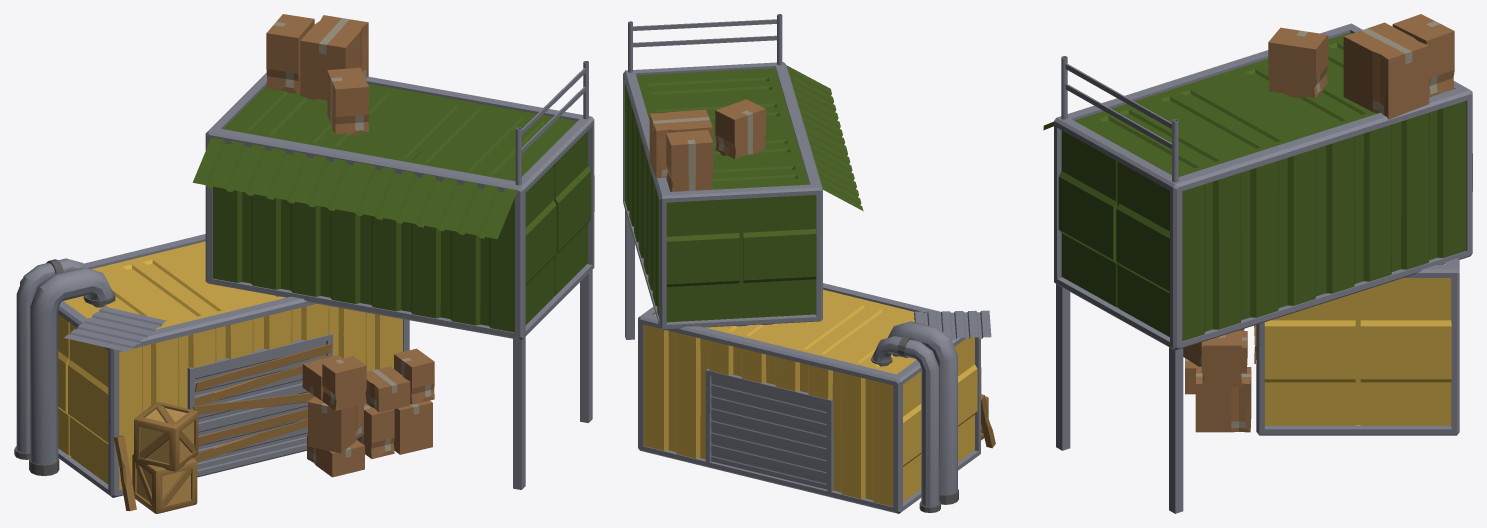
File: barracks.glb
3 views of the same model, side by side, from view 1: azimuth 30°, elevation 25°; view 2: azimuth 150°, elevation 25°; view 3: azimuth 270°, elevation 25° (orthographic). The views are drawn at different scales.
Parts seen in each view (by area): view 1: Structure_2; view 2: Structure_2; view 3: Structure_2.
Boxes of the visible parts, x1,y1,x2,y2 form: Structure_2: (14, 14, 594, 513); Structure_2: (623, 14, 995, 513); Structure_2: (1043, 14, 1472, 513).
Size of the model in its own units: 10.58 by 7.79 by 7.97.
